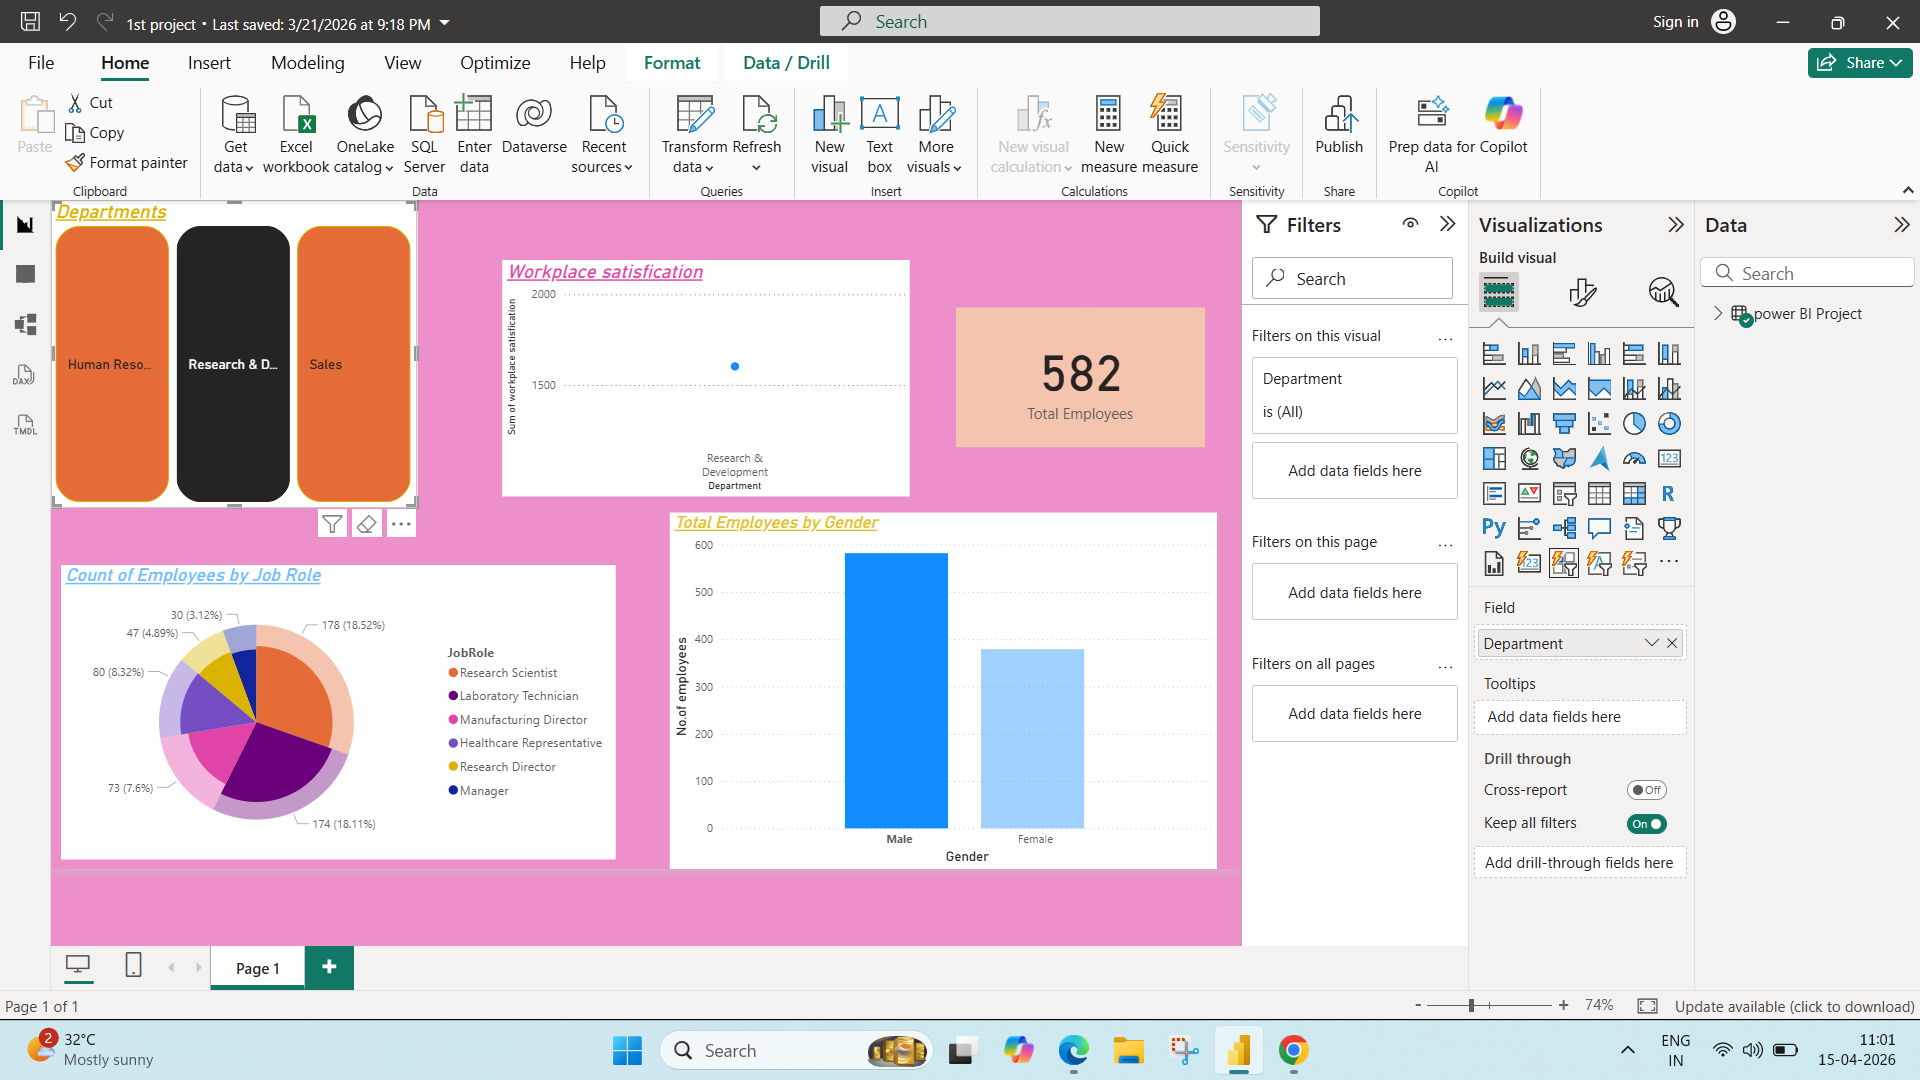

The dashboard page shown, as its layout file describes it:
{"tool":"powerbi","page":{"name":"Page 1","canvas":[1280,720],"ordinal":0},"visuals":[{"type":"pieChart","title":"Count of Employees by Job Role","fields":{"Category":["power BI Project.JobRole"],"Y":["CountNonNull(power BI Project.EmployeeNumber)"]},"box":[11,392.5,596.9,317],"z":0},{"type":"columnChart","title":"Total Employees by Gender","fields":{"Category":["power BI Project.Gender"],"Y":["CountNonNull(power BI Project.EmployeeNumber)"]},"box":[665.8,336.4,589.1,383.9],"z":2000},{"type":"card","fields":{"Values":["CountNonNull(power BI Project.EmployeeNumber)"]},"box":[973.7,115.7,267.6,150.6],"z":3000},{"type":"lineChart","title":" Workplace satisfication ","fields":{"Category":["power BI Project.Department"],"Y":["Sum(power BI Project.workplace satisfication)"]},"box":[485.8,64.2,438.3,254],"z":4000},{"type":"advancedSlicerVisual","title":"Departments","fields":{"Values":["power BI Project.Department"]},"box":[0,0,394,330.8],"z":5000}]}

Visuals, with their boxes on the page's 1280x720 design canvas (x1, y1, x2, y2). These are canvas units, not pixel positions in the 1920x1080 screenshot, which may show the page scaled, cropped or inside an application window:
"Count of Employees by Job Role" pieChart: locate(11, 392, 608, 710)
"Total Employees by Gender" columnChart: locate(666, 336, 1255, 720)
card - CountNonNull(power BI Project.EmployeeNumber): locate(974, 116, 1241, 266)
" Workplace satisfication " lineChart: locate(486, 64, 924, 318)
"Departments" advancedSlicerVisual: locate(0, 0, 394, 331)
